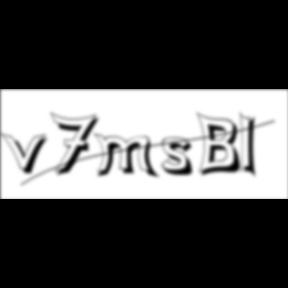7: (50, 111, 106, 179)
B: (197, 111, 247, 179)
I: (239, 110, 263, 182)
m: (93, 132, 161, 181)
s: (162, 137, 200, 179)
v: (0, 131, 54, 177)
